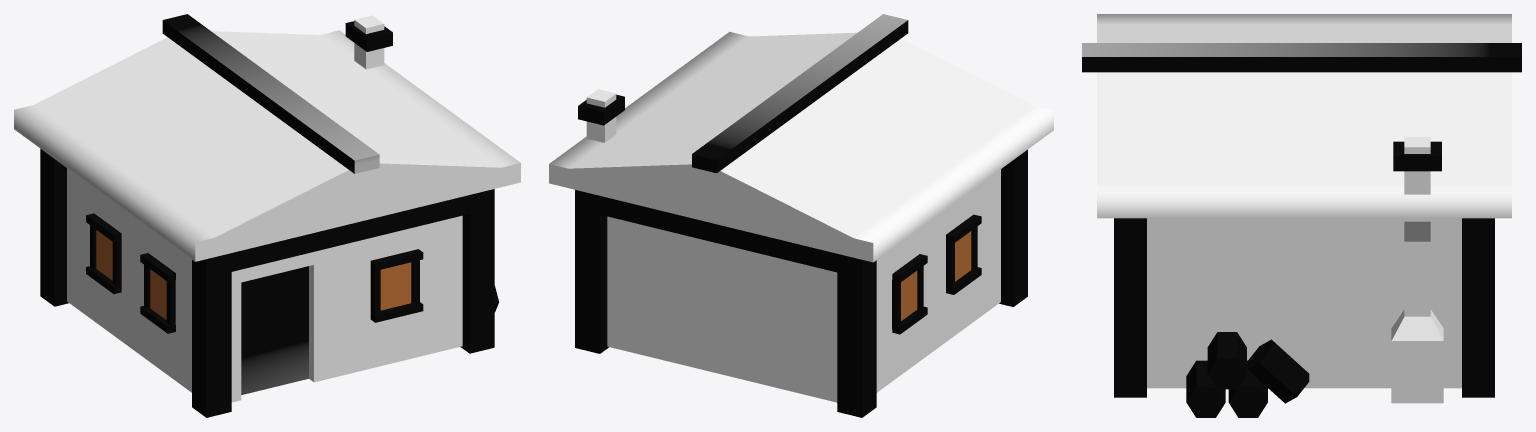
Rendered from House01.fbx.
3 renders of one model, left to right at view 1: azimuth 30°, elevation 25°; view 2: azimuth 150°, elevation 25°; view 3: azimuth 270°, elevation 25°, orthographic. The views are drawn at different scales.
Visible parts, largest first — view 1: House; view 2: House; view 3: House.
Boxes of the visible parts, x1,y1,x2,y2 form: House: [14, 14, 520, 417]; House: [549, 14, 1053, 417]; House: [1082, 14, 1521, 417].
Size of the model in its own units: 196 by 128 by 190.
1 material, 1 textured.
